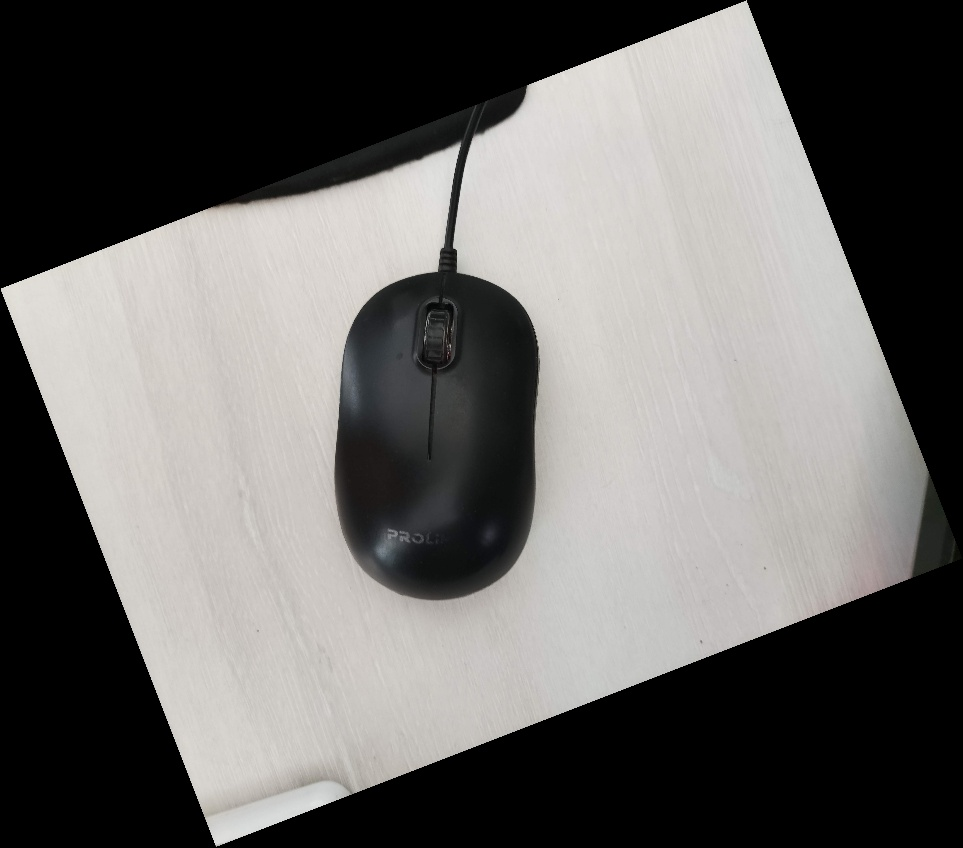mouse: (327, 261, 545, 603)
